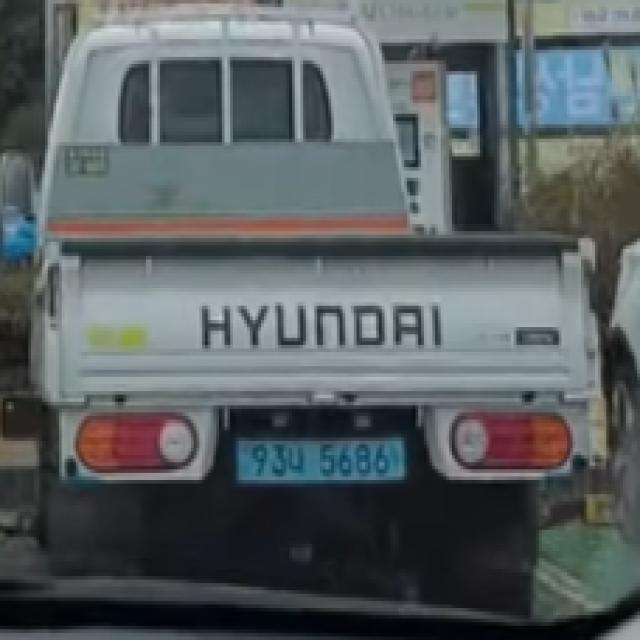car: (205, 405, 444, 510)
carev: (388, 433, 410, 488), (235, 430, 252, 491)
